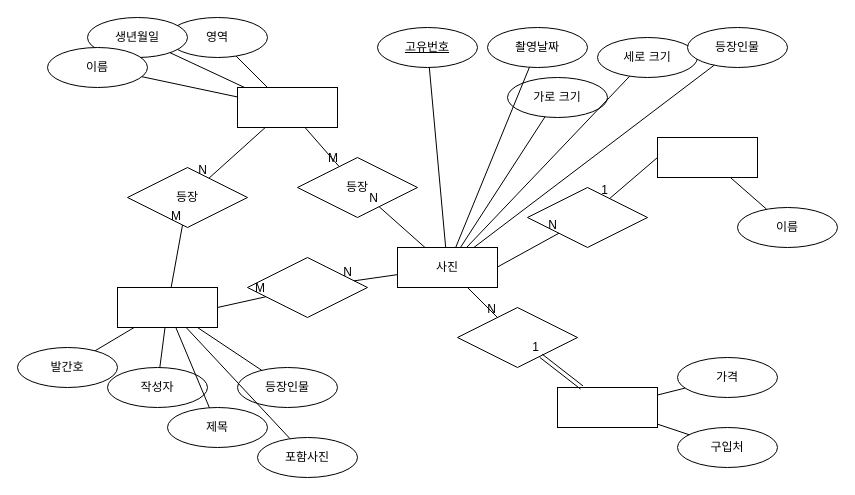
Some shapes in this 855 by 495 pixel diagram are drawn without their labels. Here are the shapes that lost their labels. From the top down, the centre of each, then its label:
At pixel 287 107: "인물".
At pixel 707 157: "사진사".
At pixel 587 217: "촬영".
At pixel 167 307: "기사".
At pixel 307 287: "포함".
At pixel 517 337: "구입".
At pixel 607 407: "외부".
